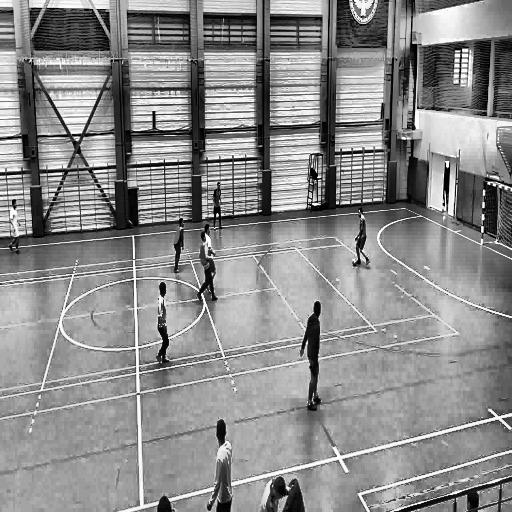ball: (352, 256, 358, 267)
player: (298, 300, 324, 414), (206, 413, 233, 512), (195, 232, 218, 303), (155, 281, 173, 371), (354, 207, 372, 269), (7, 197, 22, 258), (204, 222, 216, 294), (172, 215, 186, 275), (211, 178, 224, 232)
